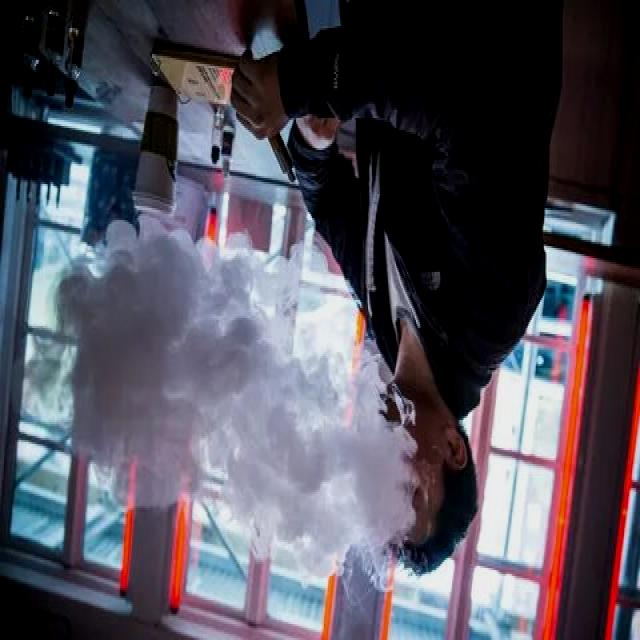cigarette: (266, 130, 300, 186)
